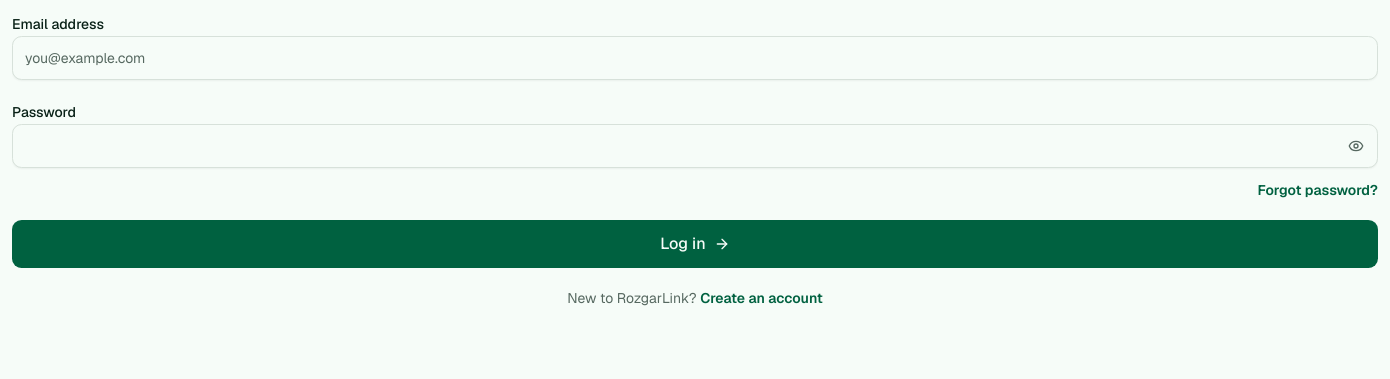
it: login form › connects server validation errors to the corresponding fields
Type "bad-email" into the field labelled "Email address".
click(695, 58); type("bad-email")  # box left=12, top=36, right=1378, bottom=80
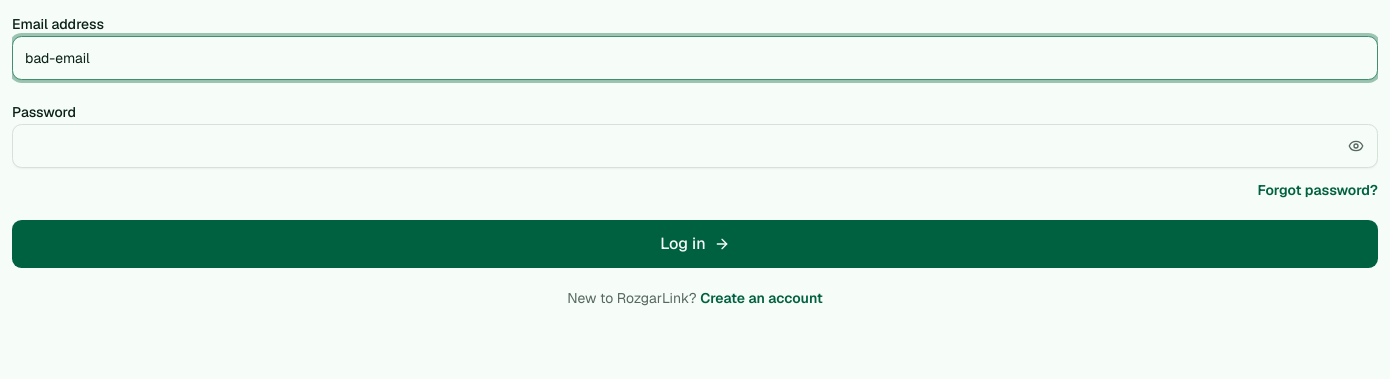
Click the button "Log in".
click(695, 244)  # box left=12, top=220, right=1378, bottom=268
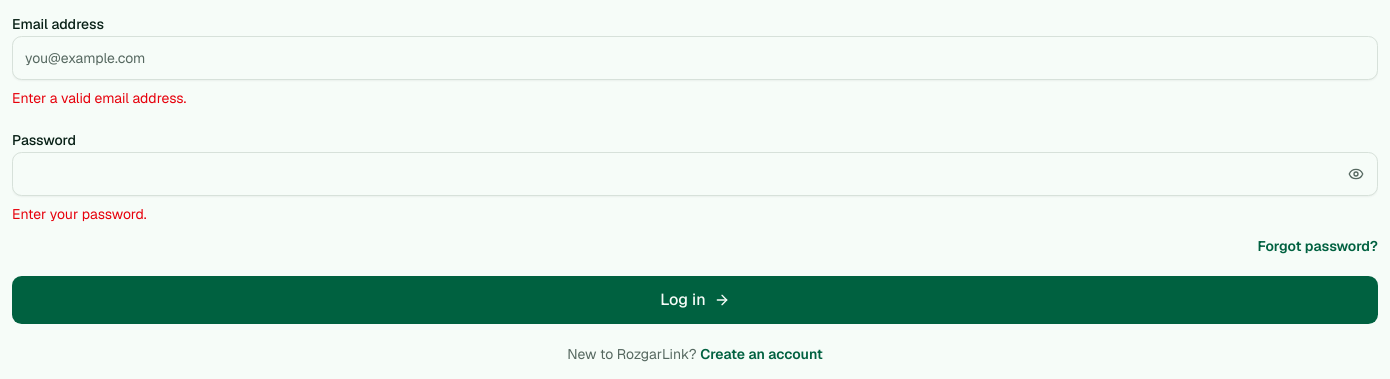
Expected: the text "Enter a valid email address." is shown, left=12, top=89, right=186, bottom=107
Expected: the text "Enter your password." is shown, left=12, top=205, right=147, bottom=223
